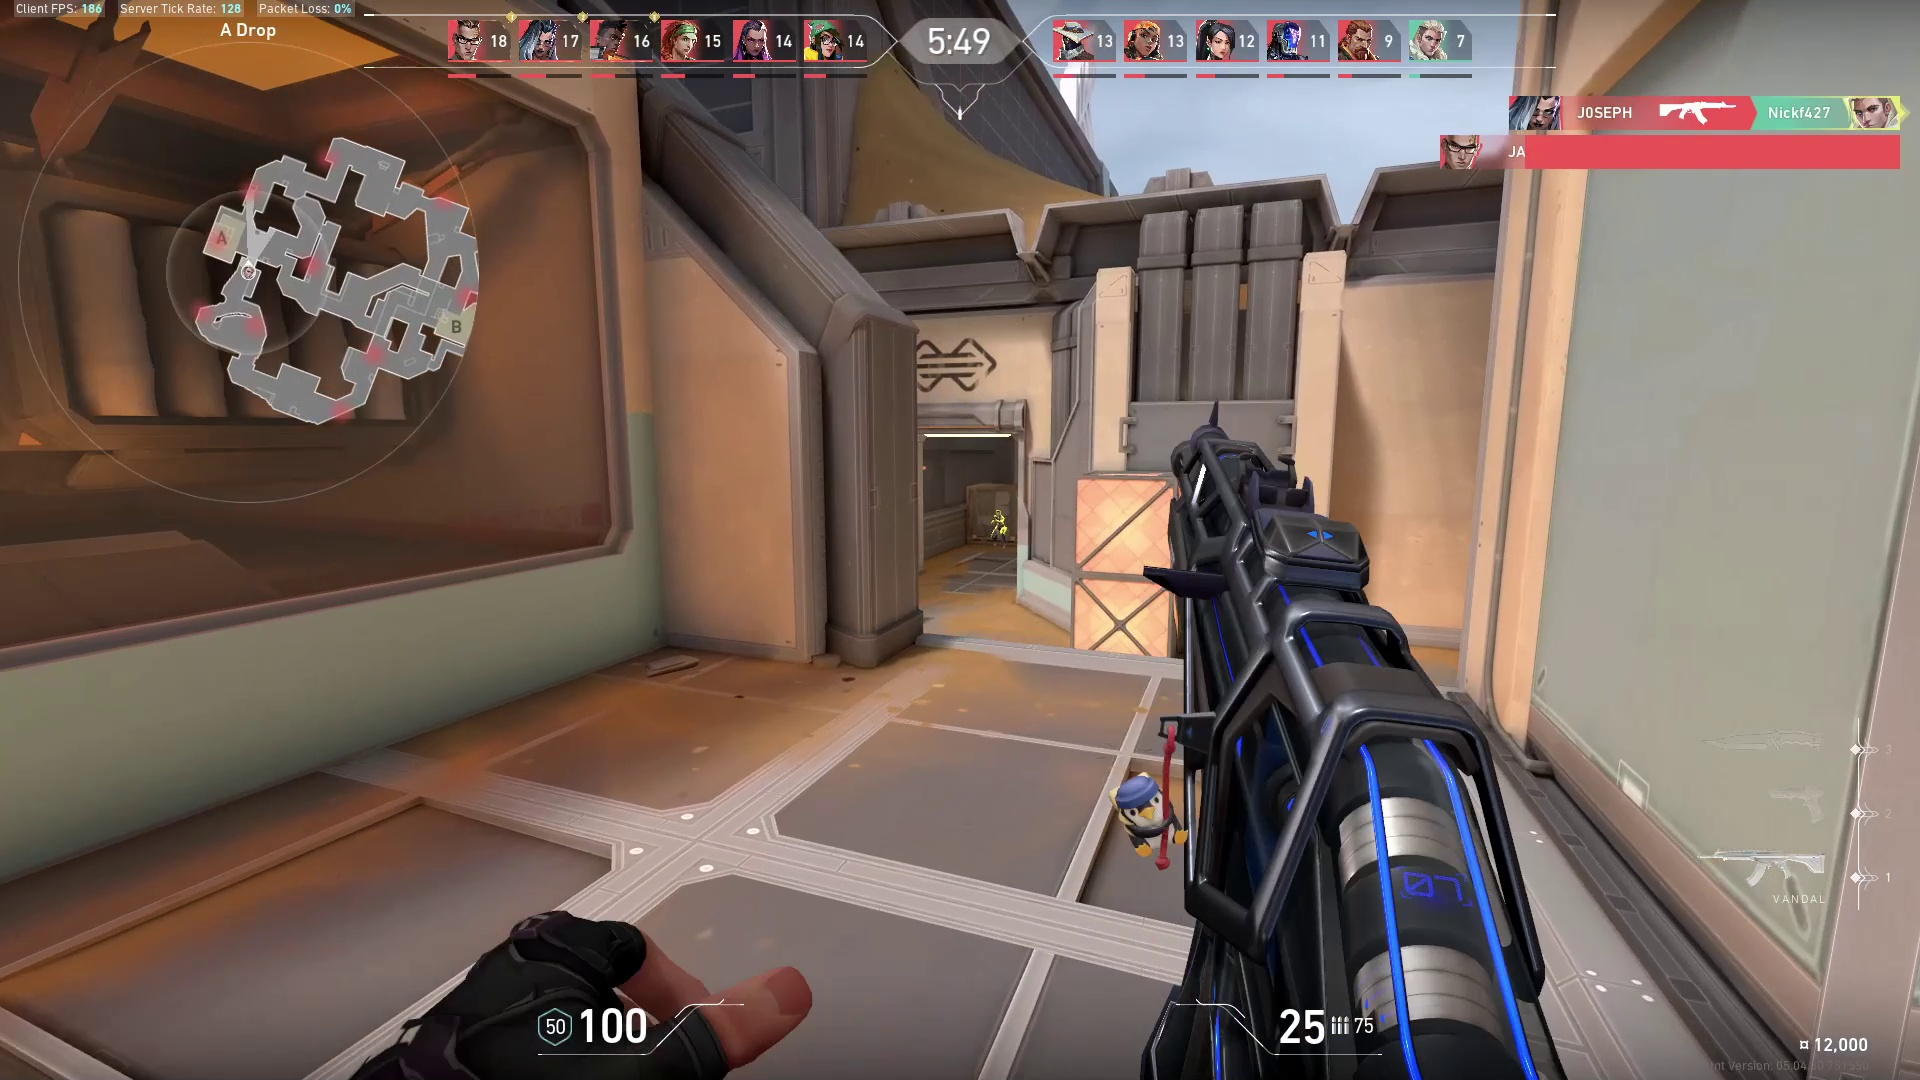enemy_body: (982, 517, 1010, 551)
enemy_head: (990, 504, 1004, 517)
